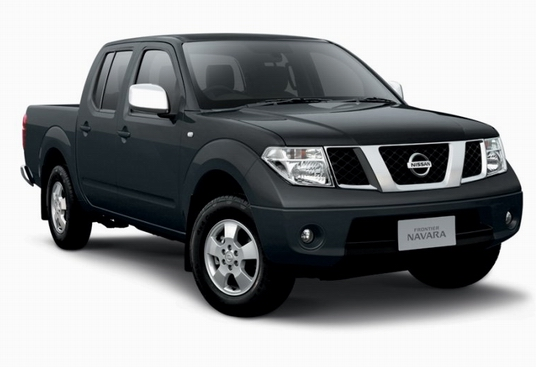pickup: (19, 31, 524, 319)
